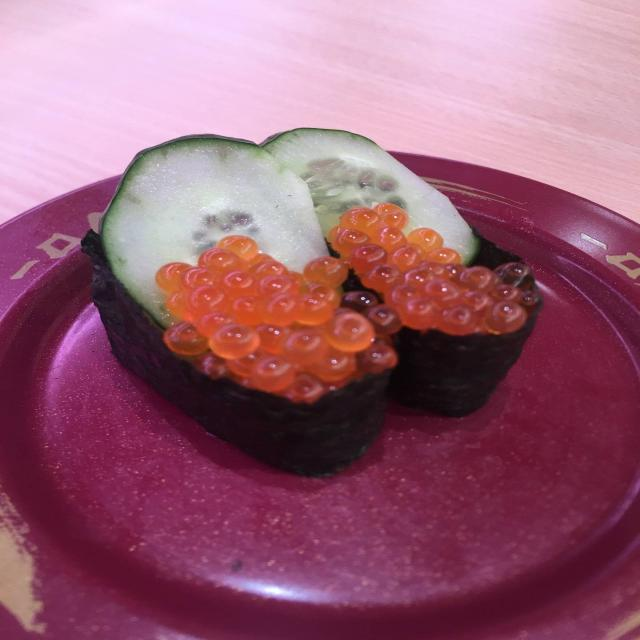janred: (9, 155, 640, 640)
